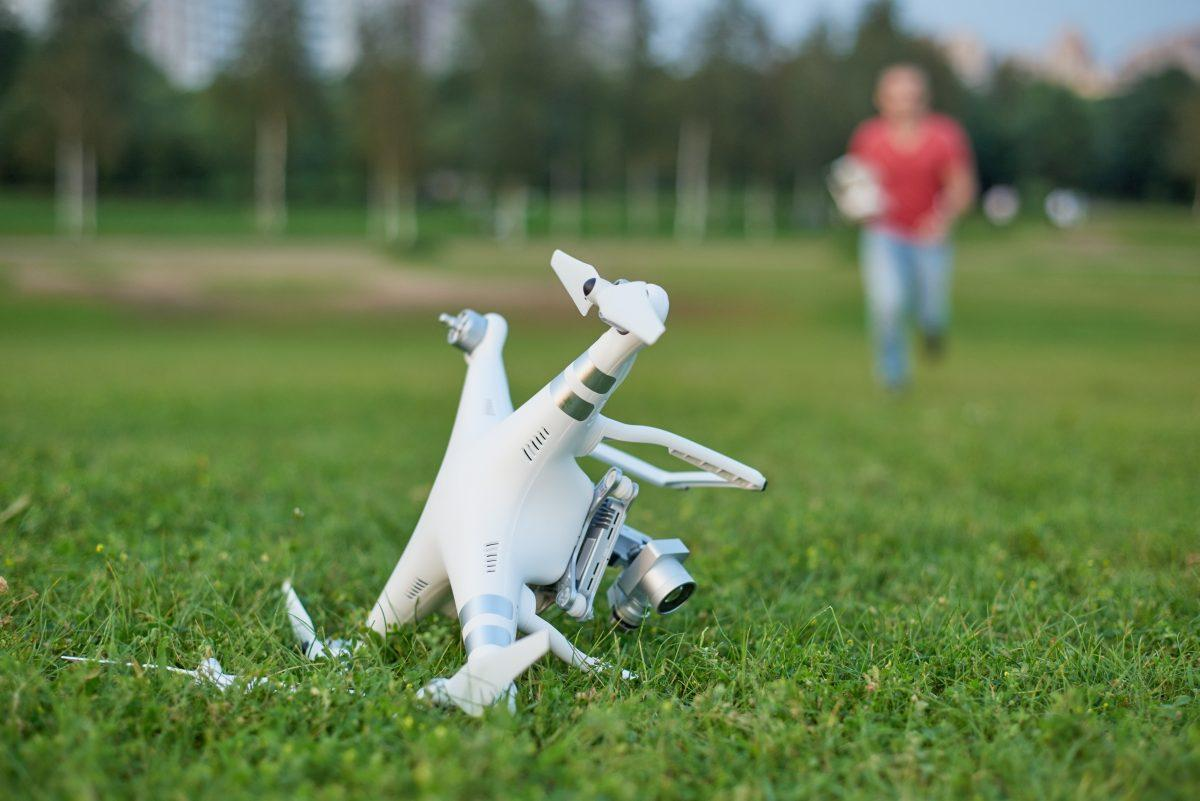drone: (256, 247, 805, 706)
